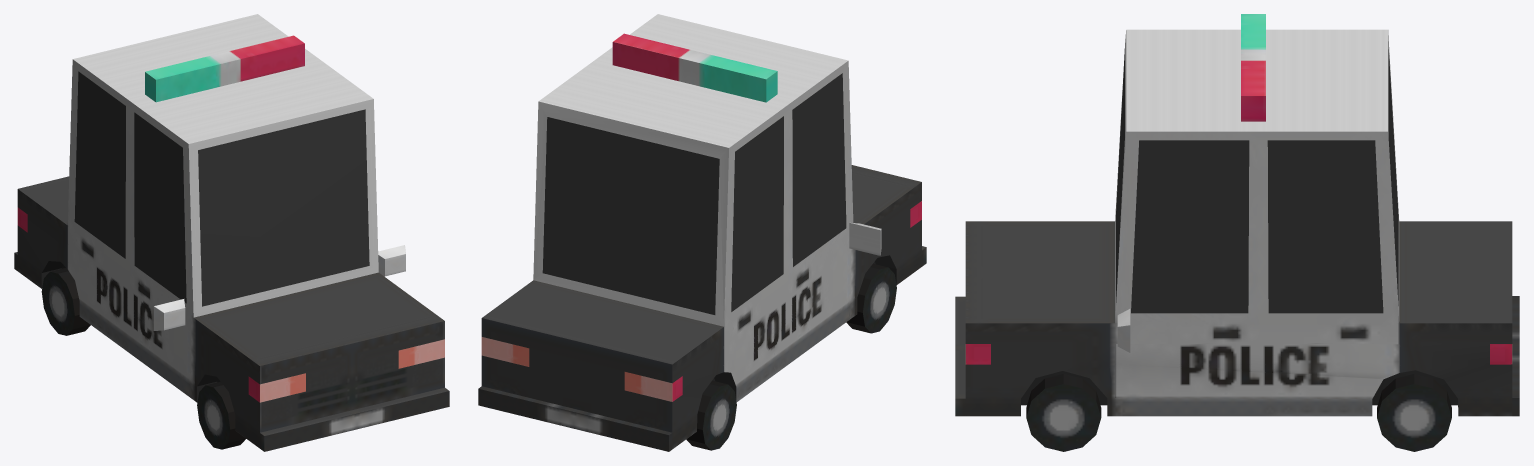
File: cop_seperate.fbx
3 renders of one model, left to right at view 1: azimuth 30°, elevation 25°; view 2: azimuth 150°, elevation 25°; view 3: azimuth 270°, elevation 25°, orthographic. The views are drawn at different scales.
Parts seen in each view (by area): view 1: cop_seperate; view 2: cop_seperate; view 3: cop_seperate.
Boxes of the visible parts, <box> form: cop_seperate: <box>14,14,449,451</box>; cop_seperate: <box>478,14,926,451</box>; cop_seperate: <box>955,14,1519,451</box>.
Bounding box in the file's own units: 3.33 × 3.87 × 5.74.
